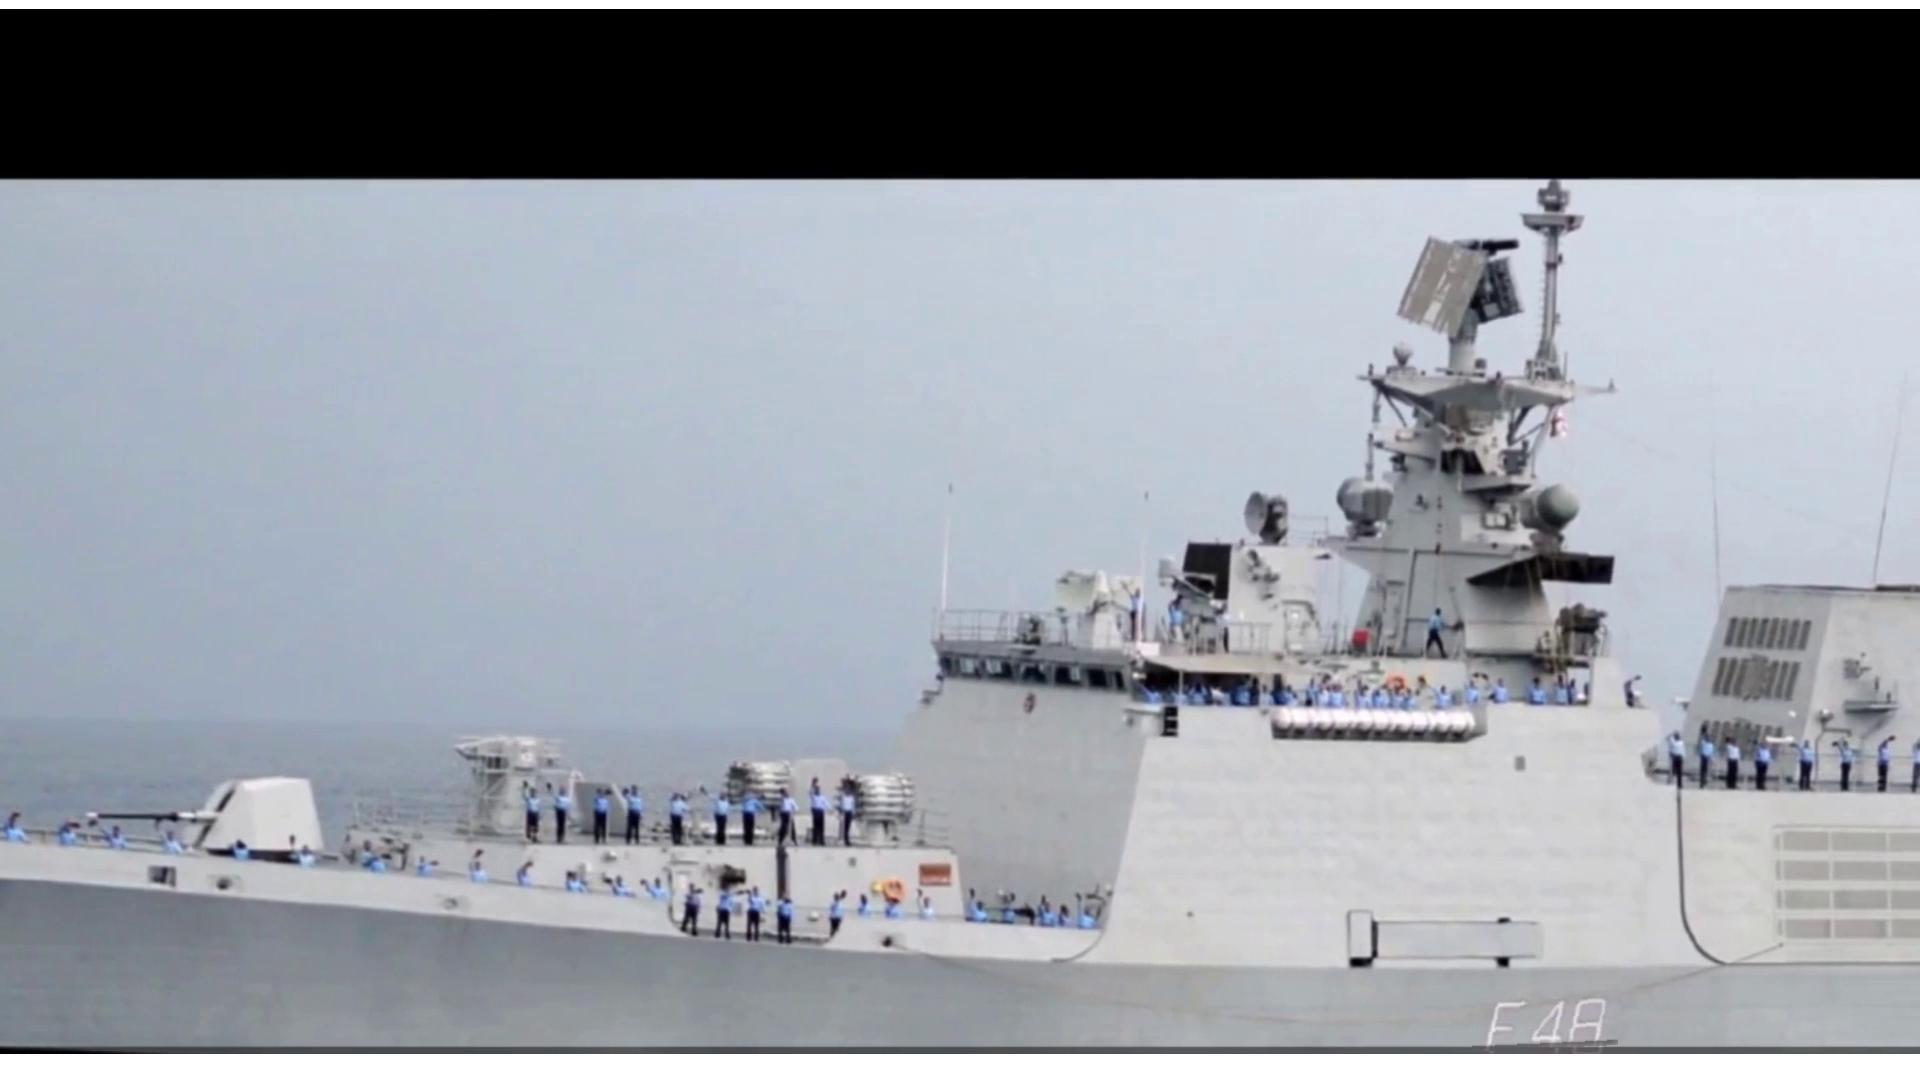OCR: (1465, 990, 1623, 1052)
